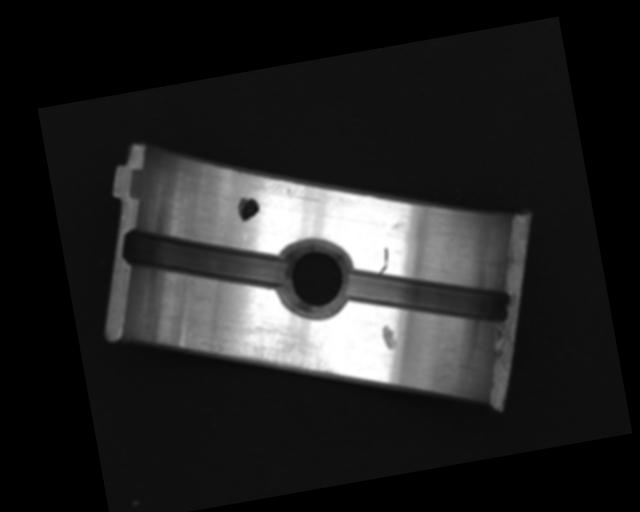blot: (234, 193, 262, 224)
bruise: (379, 321, 398, 352)
gap: (119, 206, 292, 310), (344, 246, 513, 347)
hole: (270, 235, 362, 325)
nick: (374, 247, 392, 274)
scratch: (197, 313, 341, 399)
